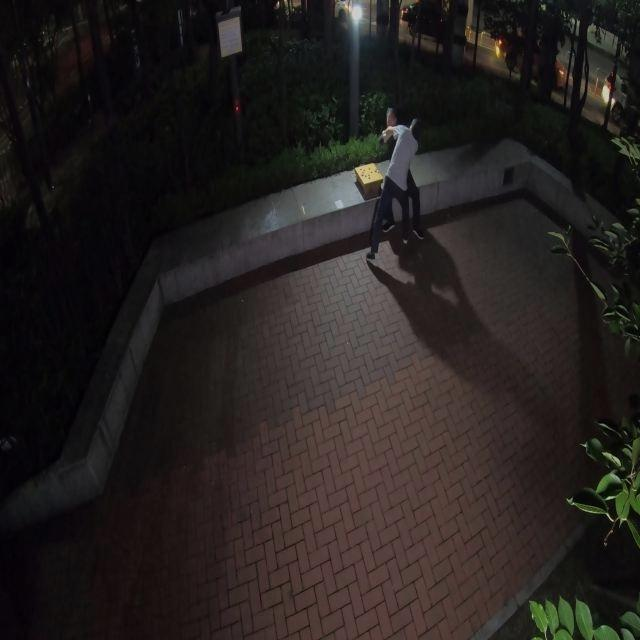fight: (365, 108, 429, 264)
